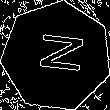N_W: (29, 33, 84, 79)
